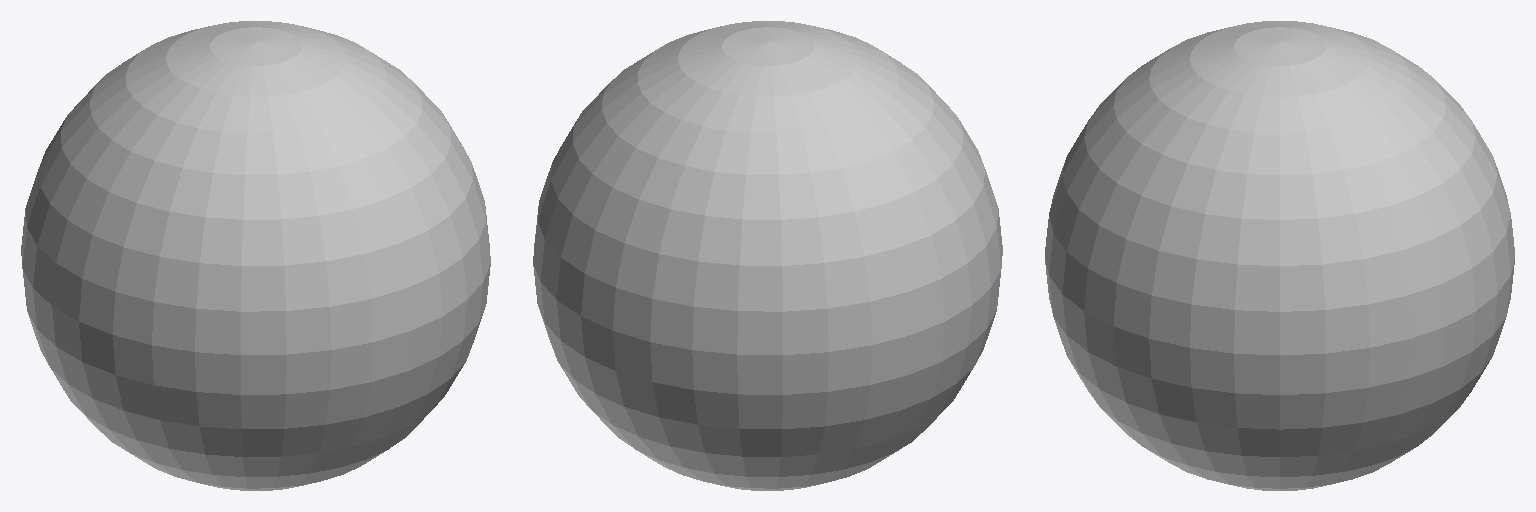
File: pellet.obj
3 views of the same model, side by side, from view 1: azimuth 30°, elevation 25°; view 2: azimuth 150°, elevation 25°; view 3: azimuth 270°, elevation 25° (orthographic).
Visible parts, largest first — view 1: Sphere001; view 2: Sphere001; view 3: Sphere001.
Boxes of the visible parts, <box> form: Sphere001: <box>21,21,490,490</box>; Sphere001: <box>533,21,1002,490</box>; Sphere001: <box>1045,21,1514,490</box>.
Size of the model in its own units: 10.03 by 10.03 by 10.03.